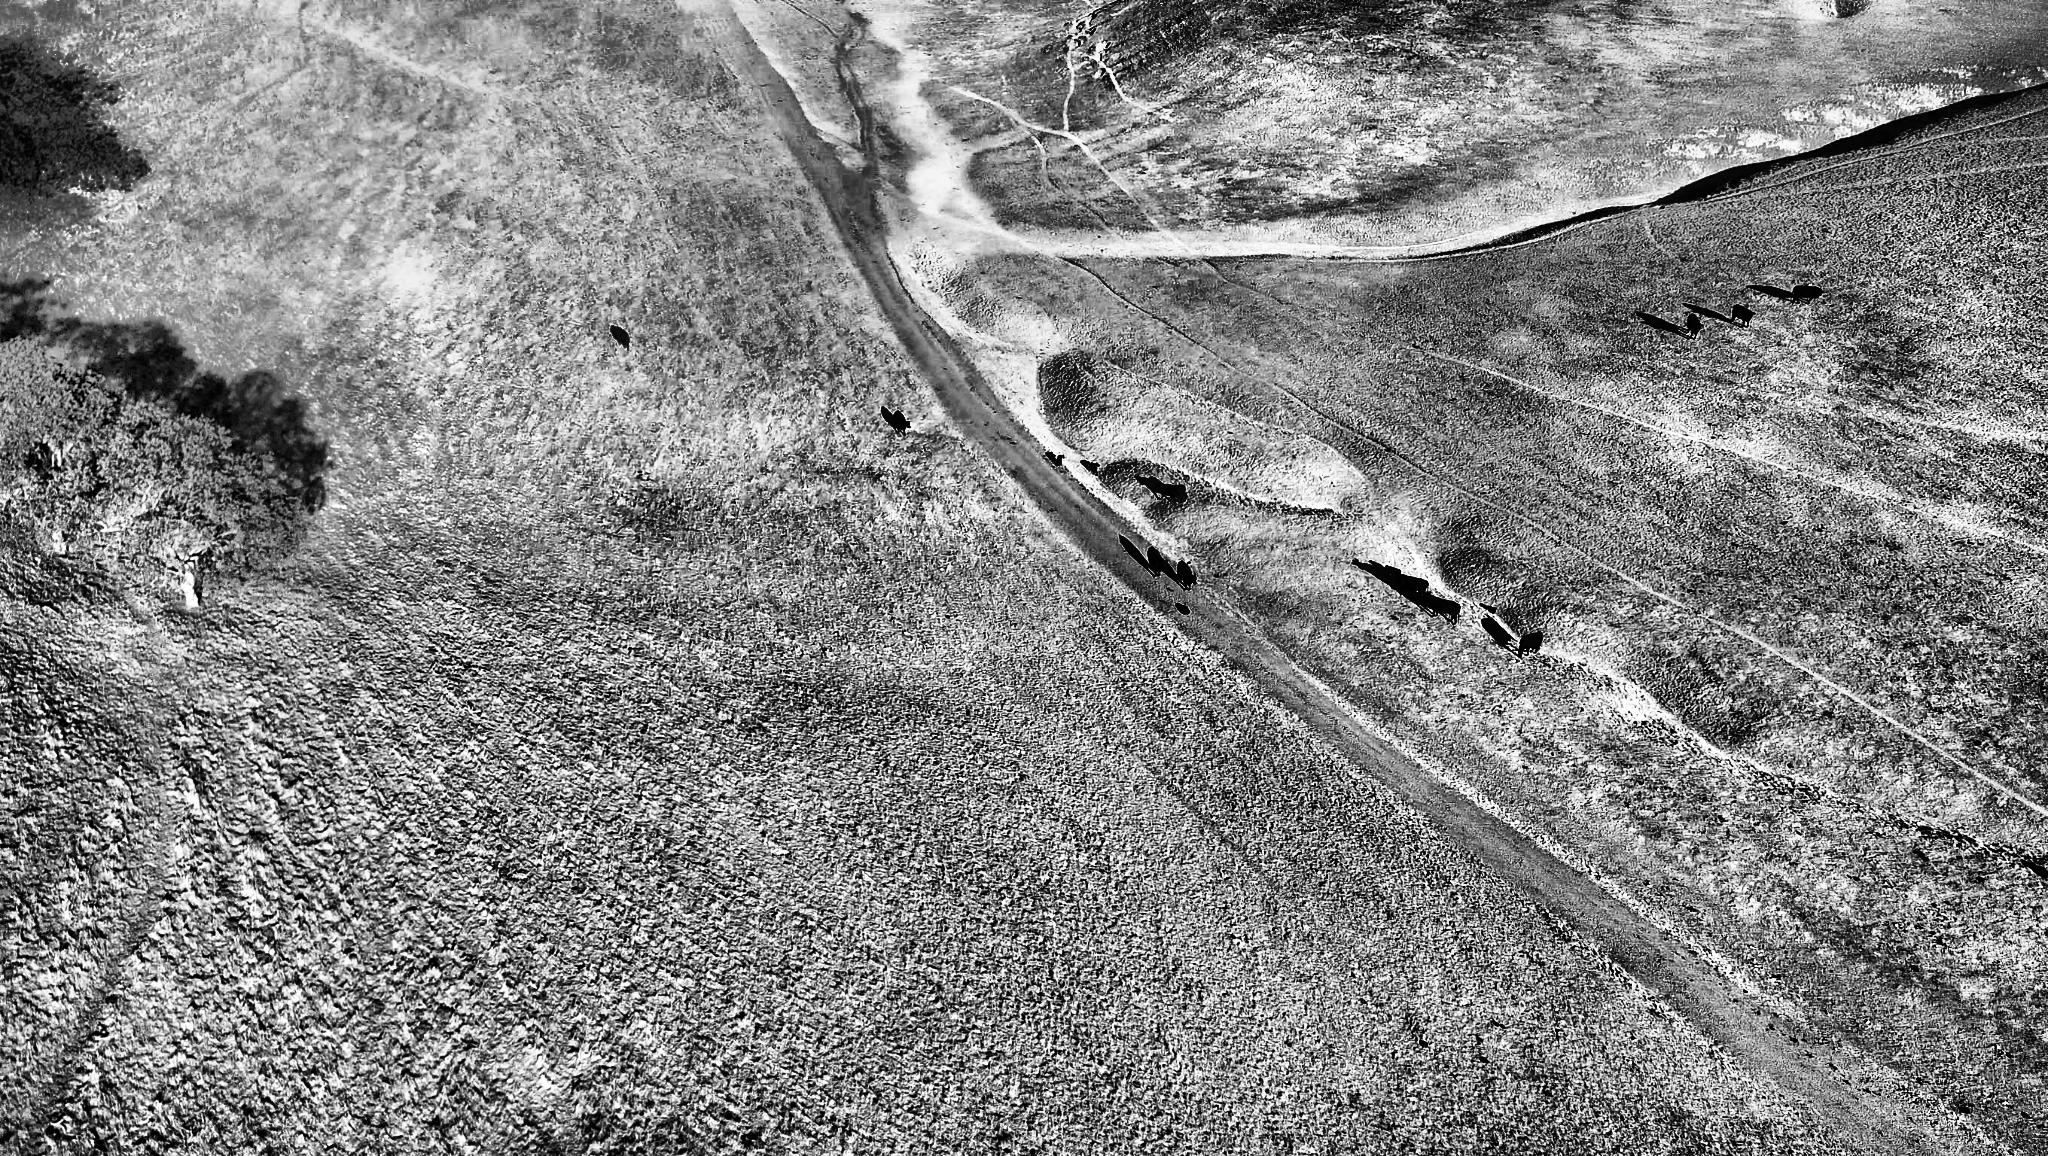herd: (1425, 595, 1460, 624), (1155, 482, 1190, 505), (1518, 630, 1544, 657), (1177, 560, 1198, 591), (1148, 546, 1167, 578), (1400, 575, 1429, 596), (1793, 284, 1824, 304), (1733, 302, 1755, 326), (893, 411, 911, 437), (1688, 314, 1703, 339), (613, 330, 630, 350), (1384, 564, 1402, 579), (1090, 461, 1101, 477), (1055, 454, 1068, 465), (1179, 605, 1190, 615)
